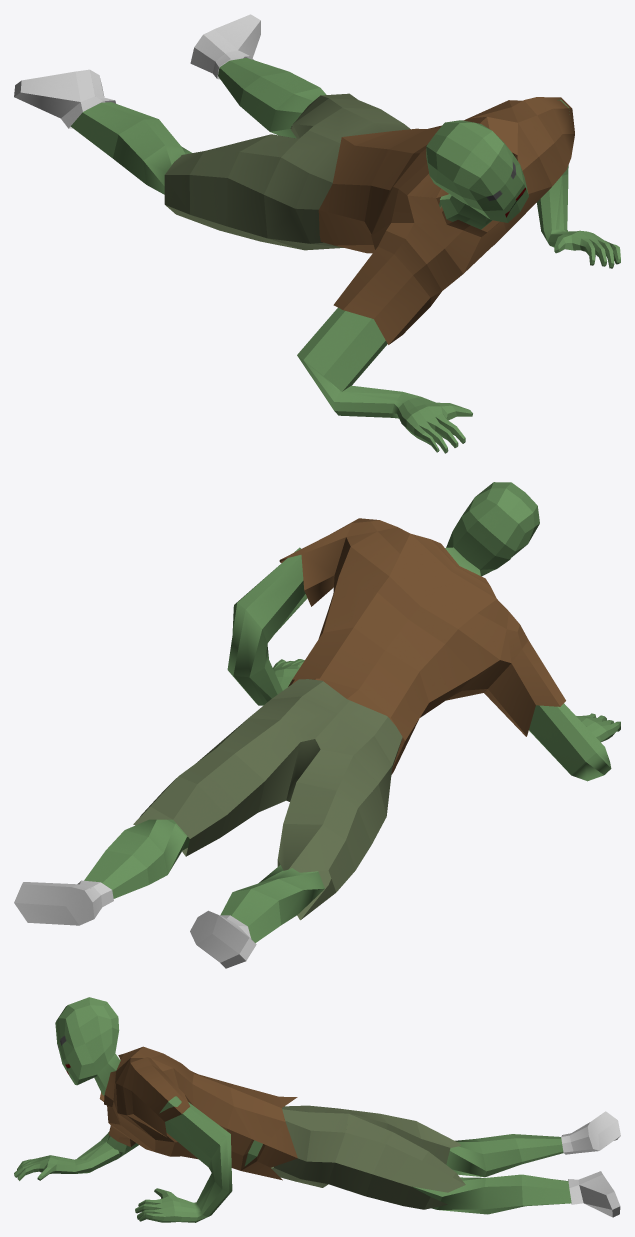
Rendered from ZombieCrawl(25).obj.
3 views of the same model, one above another, from view 1: azimuth 30°, elevation 25°; view 2: azimuth 150°, elevation 25°; view 3: azimuth 270°, elevation 25° (orthographic). The views are drawn at different scales.
Parts seen in each view (by area): view 1: Object001; view 2: Object001; view 3: Object001.
Boxes of the visible parts, x1,y1,x2,y2 form: Object001: [14, 14, 620, 453]; Object001: [14, 482, 620, 968]; Object001: [14, 997, 620, 1222].
Bounding box in the file's own units: 28.25 × 22.68 × 61.64.
